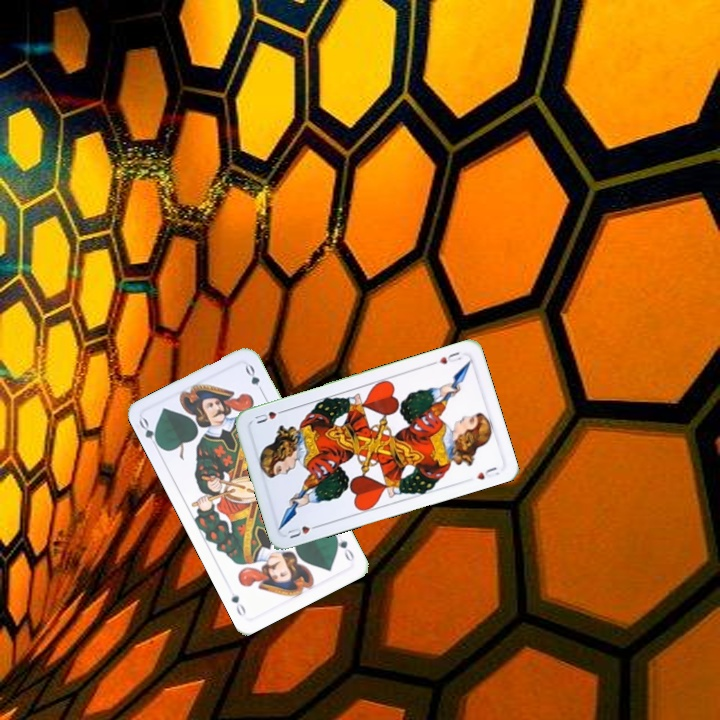GO: (135, 414, 164, 453), (329, 528, 357, 564)
HU: (283, 520, 323, 541), (427, 348, 464, 368)
